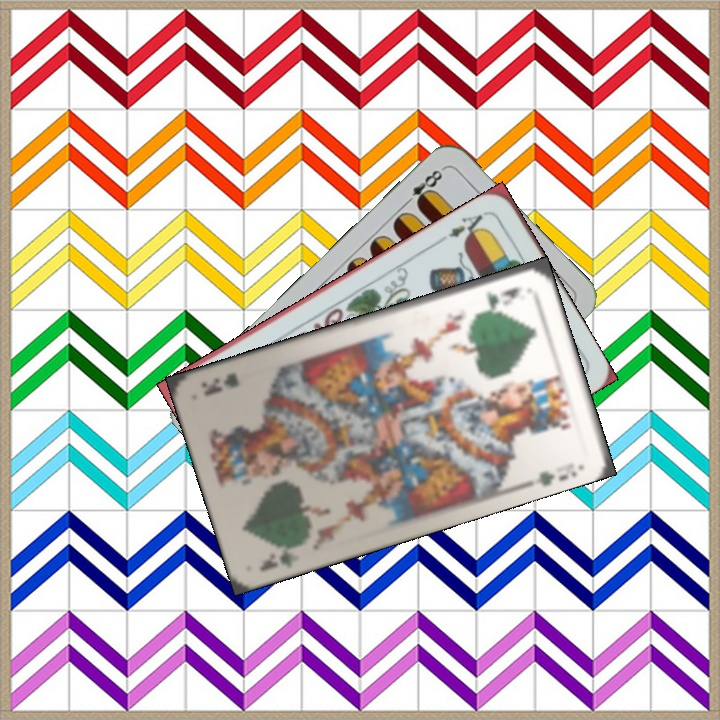E8: (399, 165, 445, 210)
EA: (444, 207, 491, 243)
GK: (256, 537, 306, 574), (482, 282, 526, 310)
